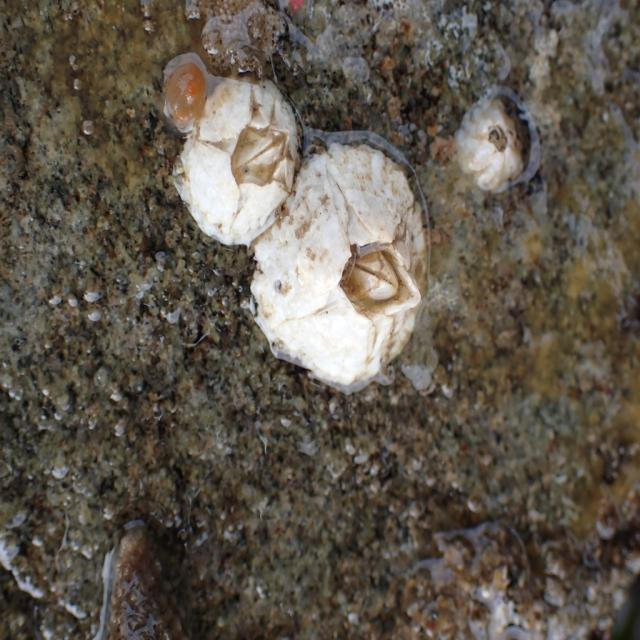barnacles: (262, 135, 430, 397), (170, 76, 303, 246), (452, 74, 537, 200)
